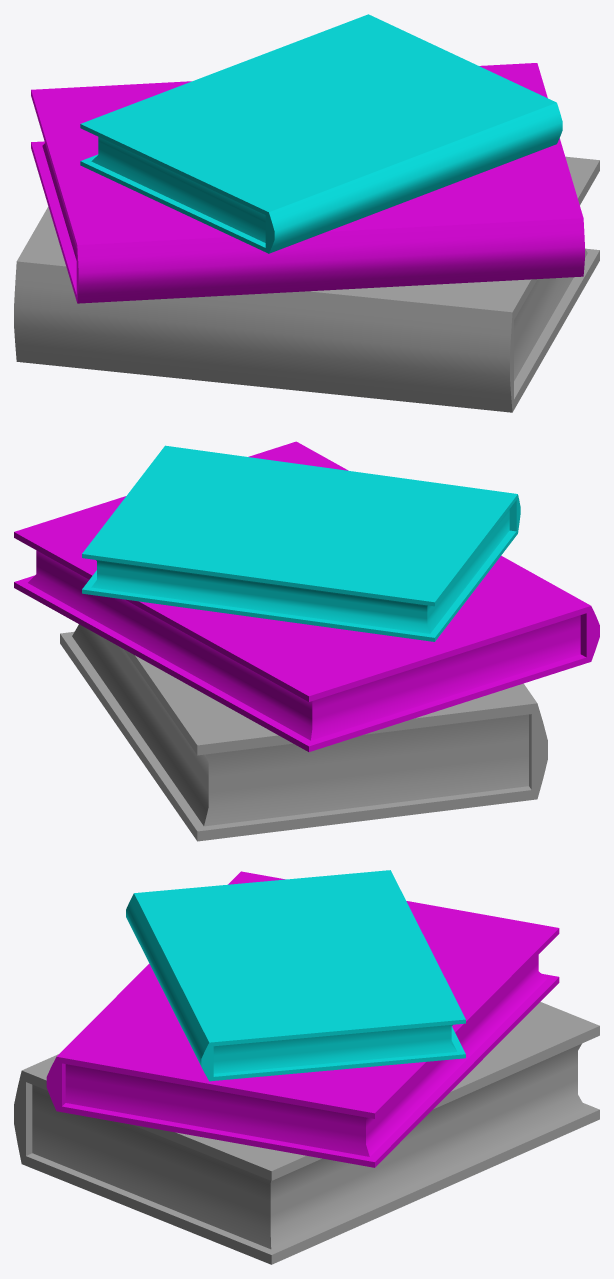
Rendered from Livres_groupe.fbx.
3 views of the same model, one above another, from view 1: azimuth 30°, elevation 25°; view 2: azimuth 150°, elevation 25°; view 3: azimuth 270°, elevation 25° (orthographic). The views are drawn at different scales.
Parts seen in each view (by area): view 1: Groupe_Livre_01; view 2: Groupe_Livre_01; view 3: Groupe_Livre_01.
Boxes of the visible parts, <box> form: Groupe_Livre_01: <box>14,14,599,412</box>; Groupe_Livre_01: <box>14,441,599,841</box>; Groupe_Livre_01: <box>14,870,599,1264</box>.
Bounding box in the file's own units: 0.4278 × 0.15 × 0.4249.
